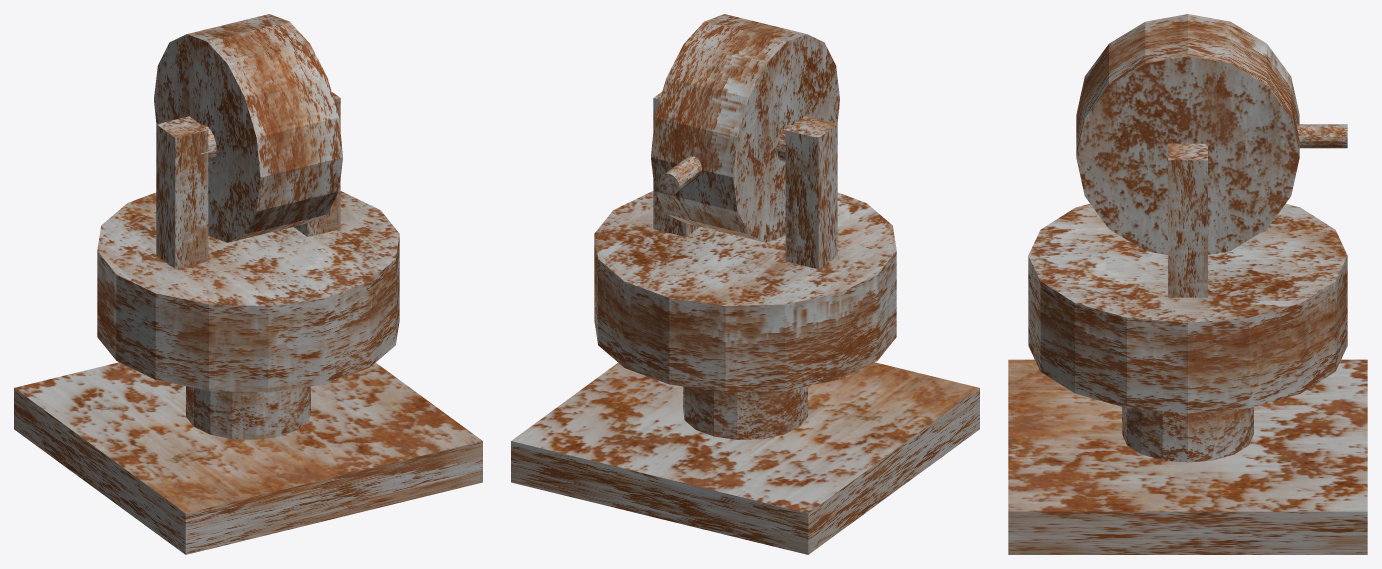
The model's file is wooden_stake_turret.glb.
The picture shows the model from 3 angles, left to right: view 1: azimuth 30°, elevation 25°; view 2: azimuth 150°, elevation 25°; view 3: azimuth 270°, elevation 25°; orthographic projection. The views are drawn at different scales.
Visible parts, largest first — view 1: TurretBase, TurretYaw, TurretPitch; view 2: TurretBase, TurretYaw, TurretPitch; view 3: TurretBase, TurretYaw, TurretPitch.
Boxes of the visible parts, x1,y1,x2,y2 form: TurretBase: (14, 362, 482, 554); TurretYaw: (97, 92, 399, 392); TurretPitch: (154, 14, 342, 242); TurretBase: (511, 362, 979, 554); TurretYaw: (594, 92, 896, 392); TurretPitch: (651, 14, 839, 242); TurretBase: (1008, 359, 1367, 554); TurretYaw: (1028, 143, 1347, 413); TurretPitch: (1076, 14, 1347, 254).
Size of the model in its own units: 1.8 by 2.46 by 1.8.
Materials: 1 (1 with a texture image).
